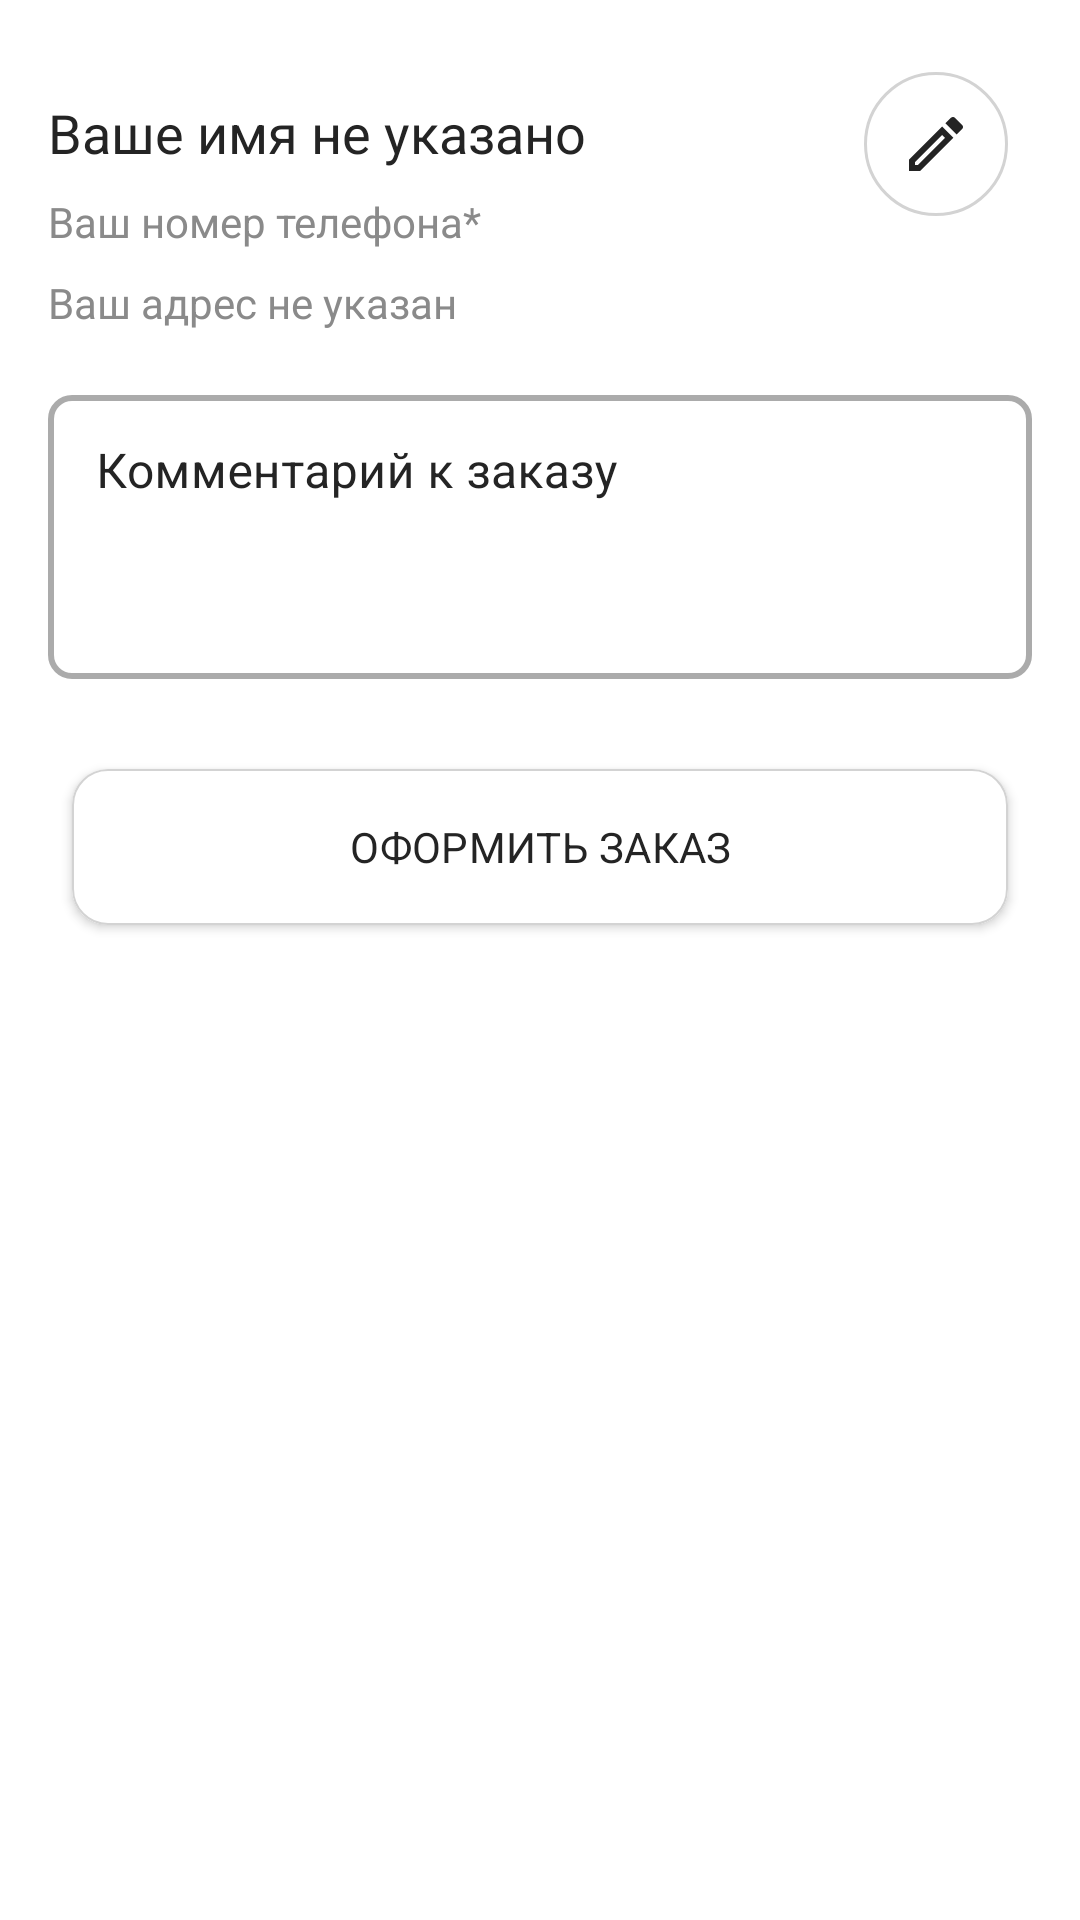

Icons on this 1080 × 1920 Android screen, each with the point to tap as [x,y]:
edit pen: [936,144]
